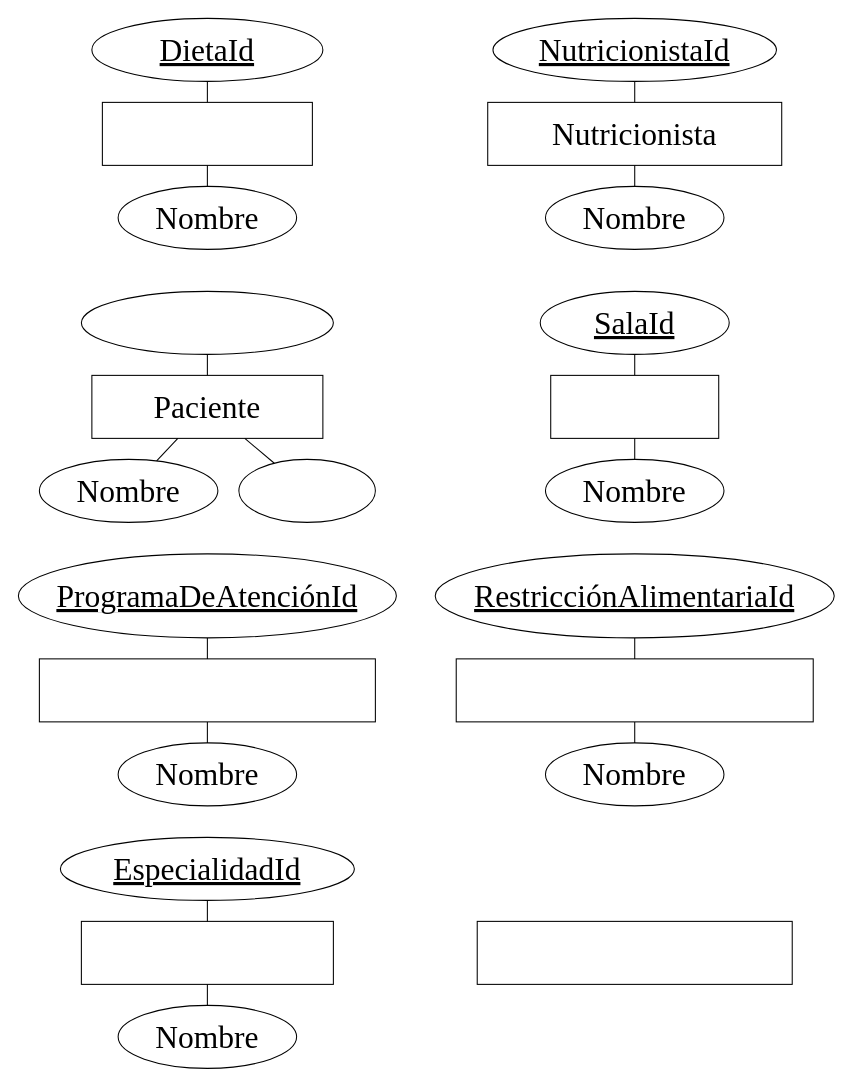
This 853x1087 diagram has some shape labels left out. Each missing label, with the box of its shape:
Dieta: (101, 101, 312, 165)
Edad: (238, 458, 375, 522)
Especialidad: (80, 920, 333, 984)
GrupoNutricional: (476, 920, 792, 984)
PacienteId: (80, 290, 333, 354)
ProgramaDeAtención: (38, 658, 375, 722)
RestricciónAlimentaria: (455, 658, 813, 722)
Sala: (550, 374, 719, 438)
